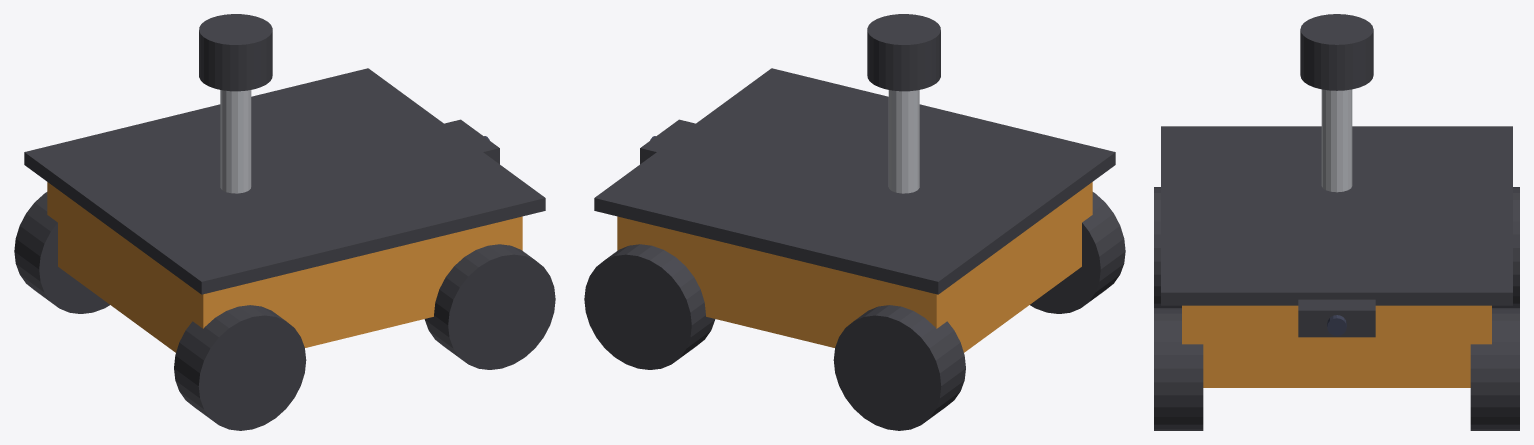
File: scout_mini.glb
The picture shows the model from 3 angles, left to right: view 1: azimuth 30°, elevation 25°; view 2: azimuth 150°, elevation 25°; view 3: azimuth 270°, elevation 25°; orthographic projection.
Visible parts, largest first — view 1: part_5, part_4, part_0, part_2, part_7, part_1, part_6, part_8; view 2: part_5, part_4, part_1, part_3, part_7, part_0, part_6, part_8; view 3: part_5, part_4, part_2, part_3, part_7, part_6, part_8, part_0, part_1, part_9.
Boxes of the visible parts, left/top/right/bottom form: part_5: left=24, top=68, right=545, bottom=294; part_4: left=47, top=182, right=522, bottom=352; part_0: left=174, top=305, right=306, bottom=430; part_2: left=424, top=244, right=555, bottom=369; part_7: left=199, top=14, right=272, bottom=91; part_1: left=14, top=192, right=109, bottom=313; part_6: left=220, top=90, right=251, bottom=193; part_8: left=444, top=119, right=499, bottom=164; part_5: left=594, top=68, right=1115, bottom=294; part_4: left=617, top=182, right=1092, bottom=352; part_1: left=833, top=305, right=965, bottom=430; part_3: left=584, top=244, right=715, bottom=369; part_7: left=867, top=14, right=940, bottom=91; part_0: left=1030, top=192, right=1125, bottom=313; part_6: left=888, top=90, right=919, bottom=193; part_8: left=640, top=119, right=695, bottom=164; part_5: left=1161, top=126, right=1512, bottom=305; part_4: left=1182, top=305, right=1491, bottom=387; part_2: left=1154, top=308, right=1203, bottom=430; part_3: left=1470, top=308, right=1519, bottom=430; part_7: left=1300, top=14, right=1373, bottom=90; part_6: left=1321, top=89, right=1352, bottom=192; part_8: left=1298, top=299, right=1375, bottom=337; part_0: left=1154, top=187, right=1181, bottom=307; part_1: left=1492, top=187, right=1519, bottom=307; part_9: left=1327, top=315, right=1346, bottom=335.
Size of the model in its own units: 0.6195 by 0.4885 by 0.52.
